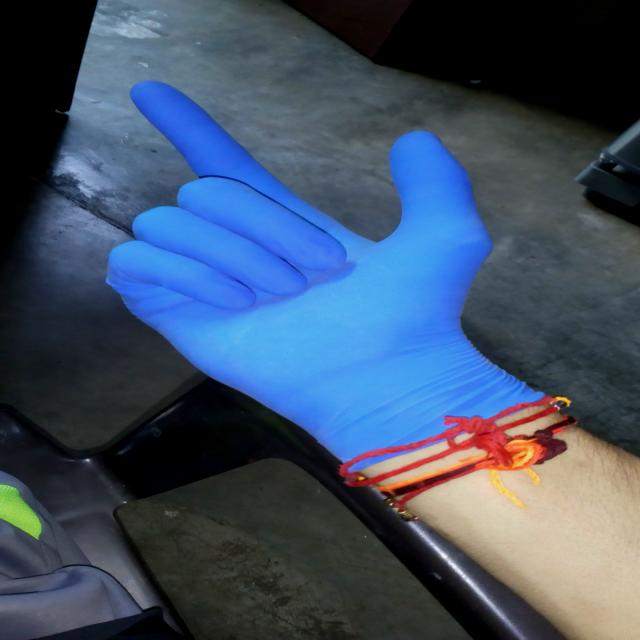glove: (88, 73, 576, 475)
